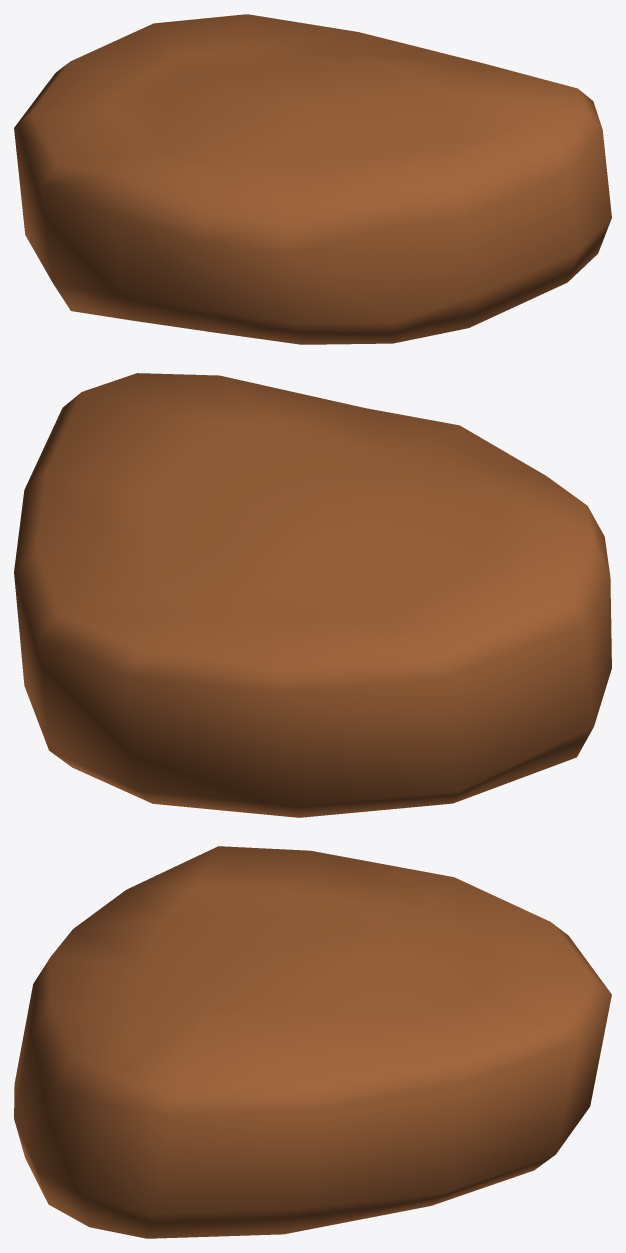
File: ChickenNugget_01.fbx
The picture shows the model from 3 angles, top to bottom: view 1: azimuth 30°, elevation 25°; view 2: azimuth 150°, elevation 25°; view 3: azimuth 270°, elevation 25°; orthographic projection. The views are drawn at different scales.
Parts seen in each view (by area): view 1: ChickenNugget_01; view 2: ChickenNugget_01; view 3: ChickenNugget_01.
Part boxes in pixels (<box>): ChickenNugget_01: <box>14,14,611,344</box>; ChickenNugget_01: <box>14,373,611,817</box>; ChickenNugget_01: <box>14,846,611,1238</box>.
Bounding box in the file's own units: 0.065 × 0.0229 × 0.0617.
